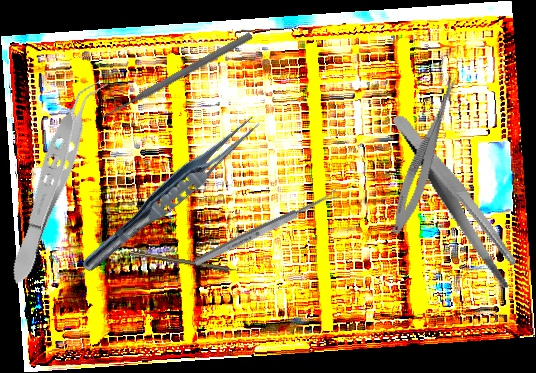Dressing Forceps: (391, 94, 524, 306)
Hook Surgical: (130, 250, 245, 275)
Micro Scissor: (385, 68, 464, 239)
Pusher: (98, 29, 254, 124)
Surgical Spoon: (193, 188, 340, 268)
Tissue Forceps: (76, 105, 268, 282), (0, 69, 110, 290)
